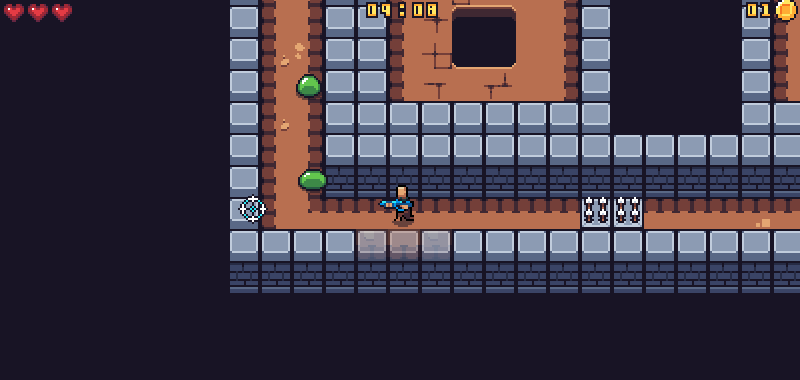enemy_slug: (296, 166, 328, 192), (294, 71, 322, 99)
trap_on: (580, 196, 644, 229)
